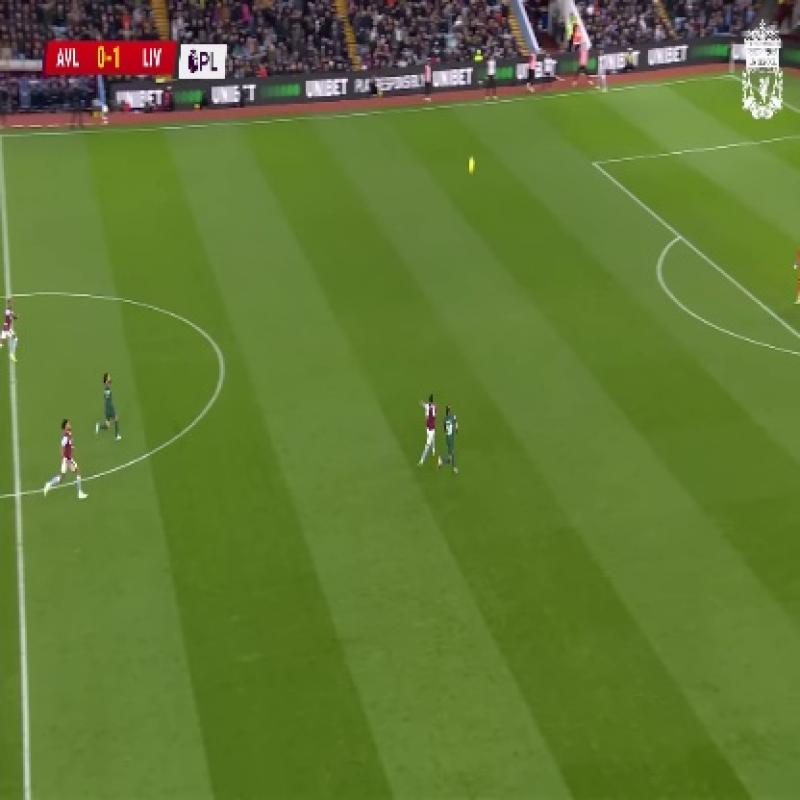1: (718, 65, 740, 83)
10: (670, 223, 688, 246)
14: (0, 275, 17, 306)
15: (2, 471, 31, 514)
9: (583, 150, 602, 175)
c: (203, 344, 240, 380)
